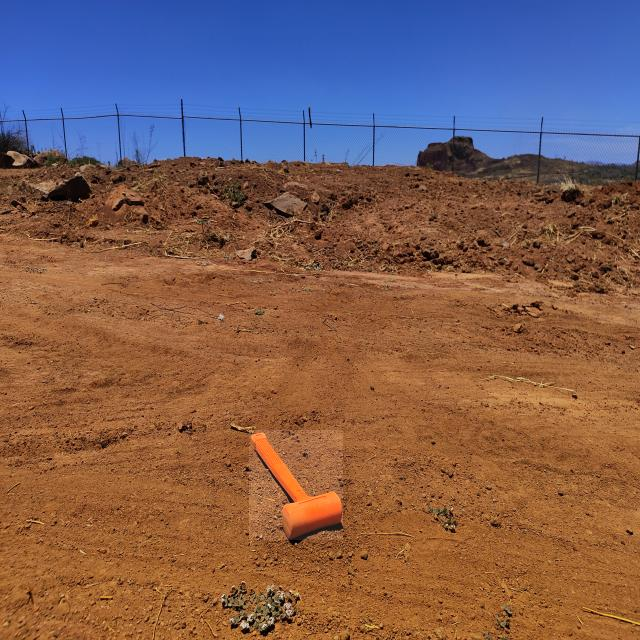Orange_hammer: (249, 430, 343, 540)
